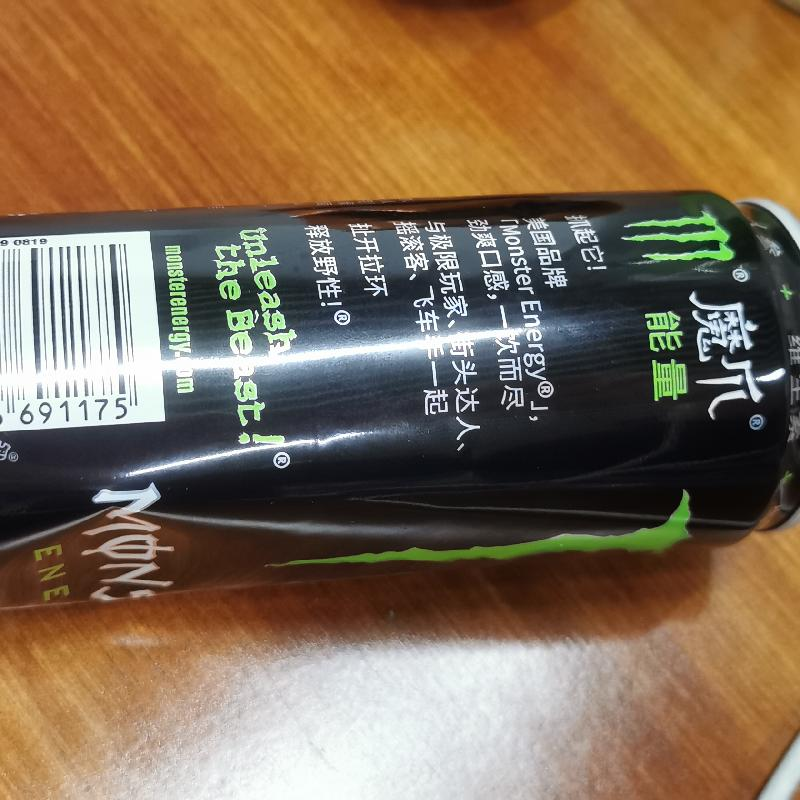cans: (0, 188, 799, 596)
